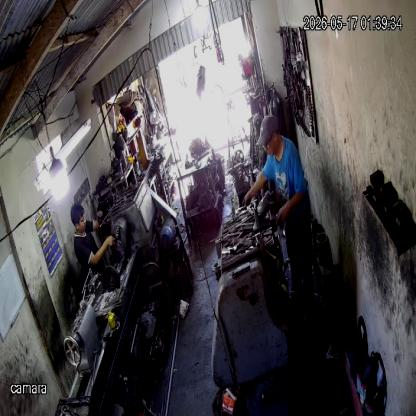lentes: (258, 140, 276, 152)
